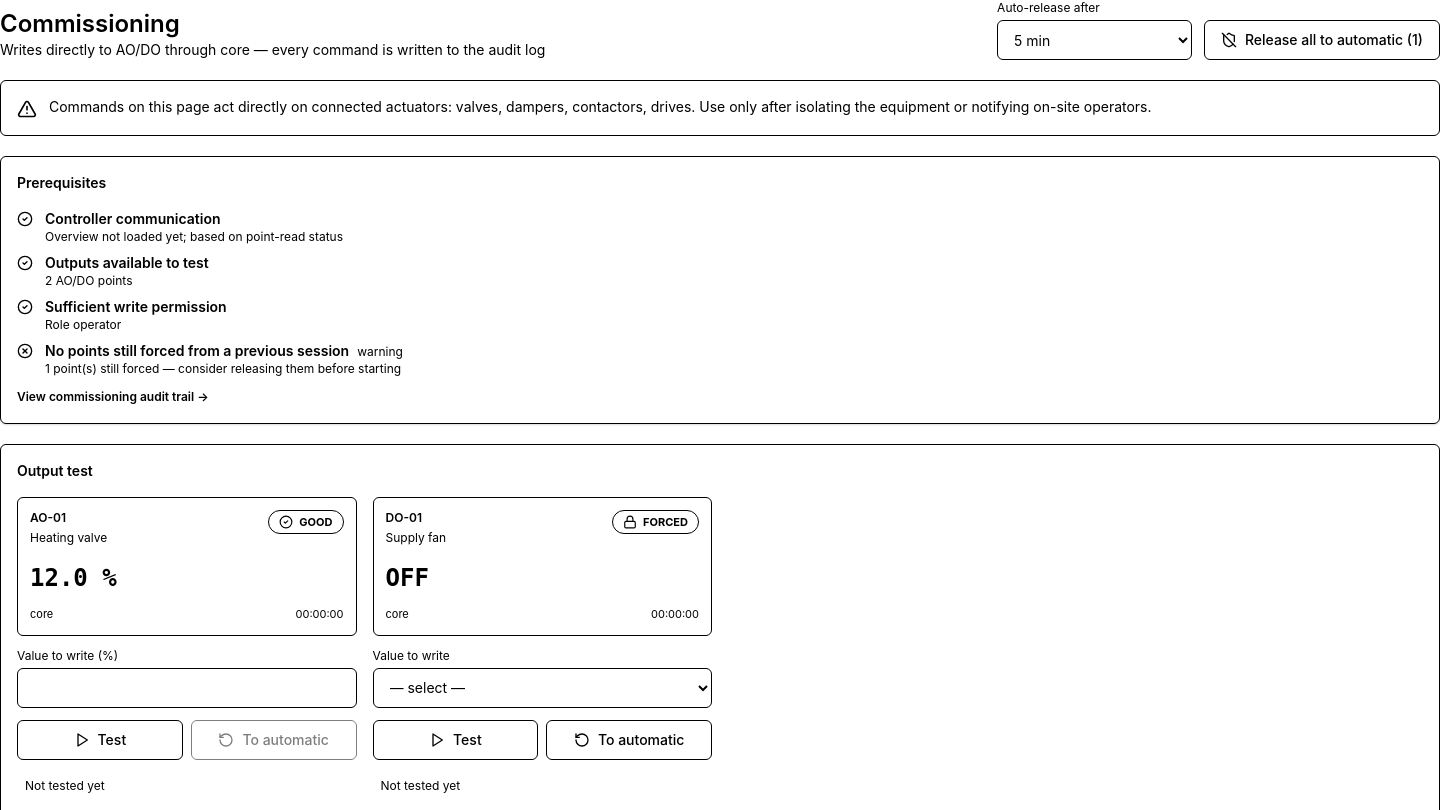
Test case: CommissioningPage auto-release timeout › says the controller reported no remaining time instead of showing a fake countdown
Step 1. Type "35" into the number field named "Value to write for AO-01" → (187, 688), box [17,668,356,708]
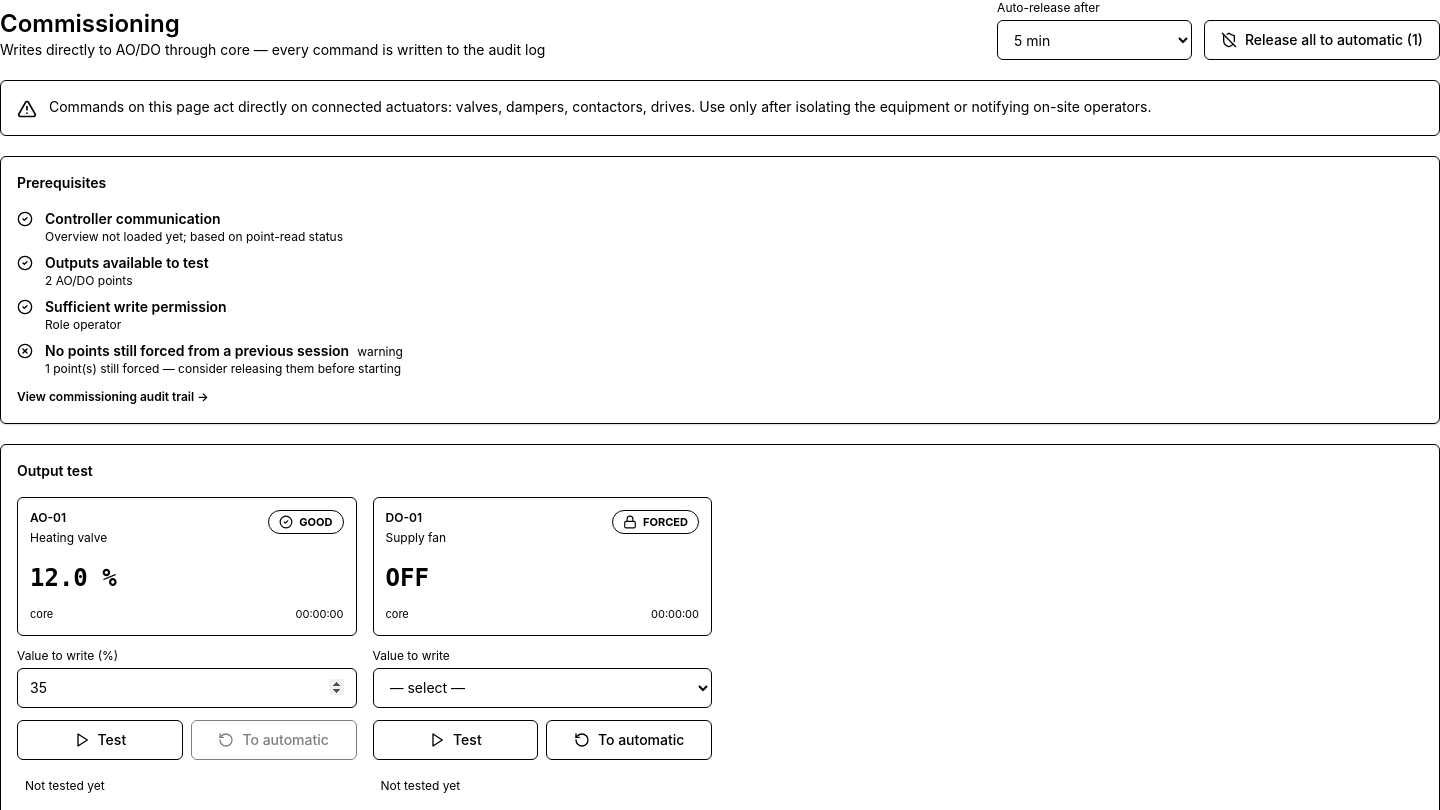
Step 2. Click the button with aria-label "Test AO-01" → (100, 740), box [17,720,183,760]
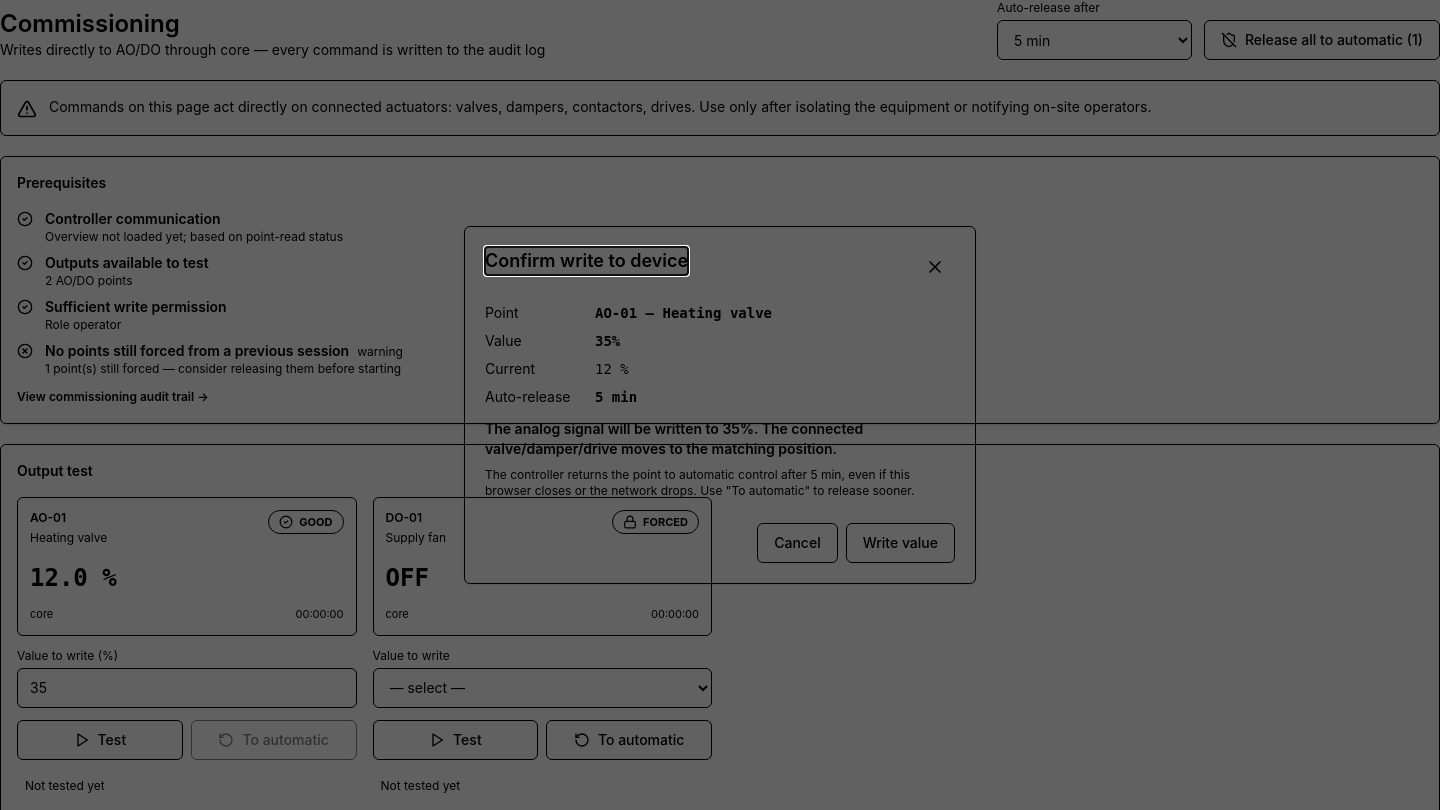
Step 3. Click the button "Write value" → (900, 543), box [846,523,955,563]
(page scrolled)
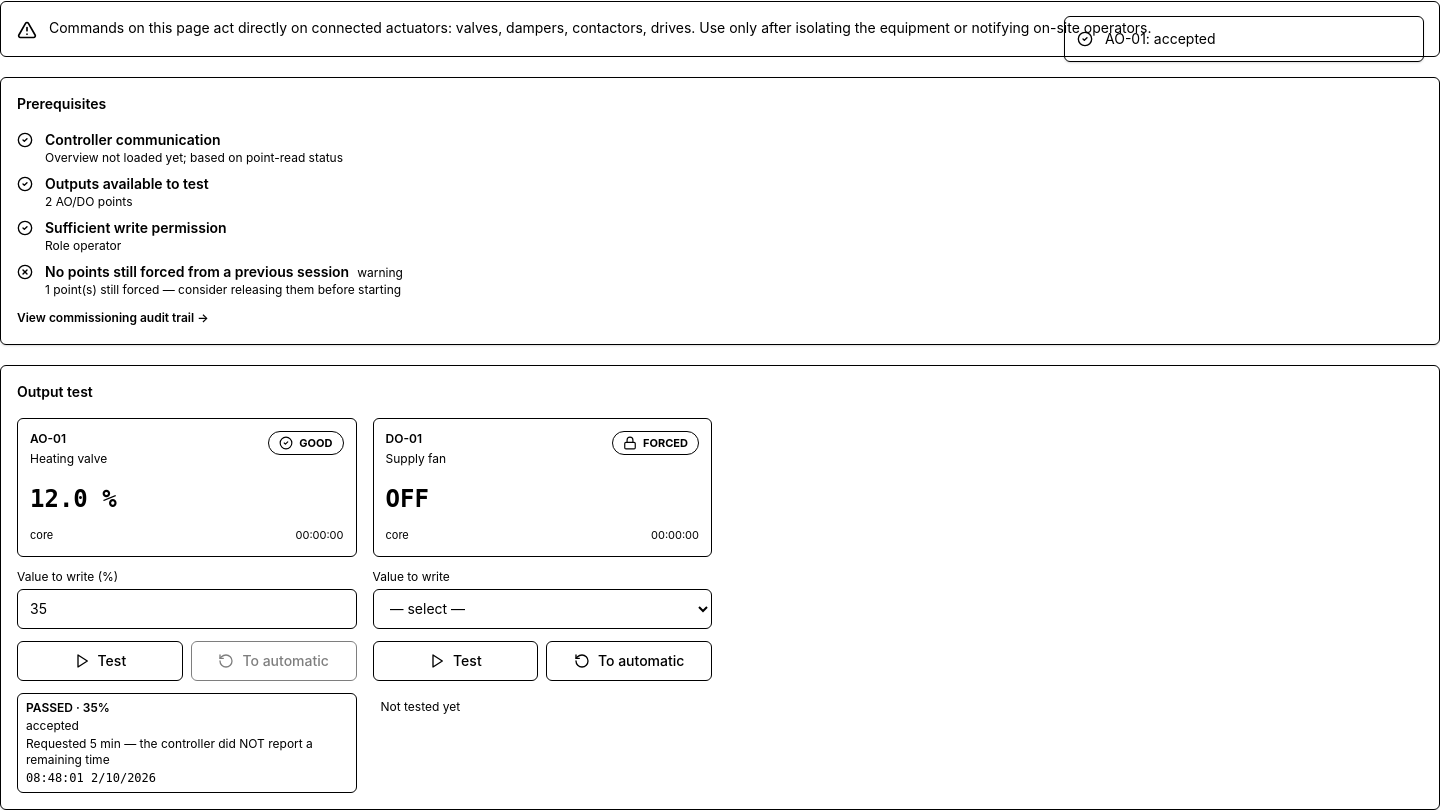
Expected: the text "did NOT report a remaining time" is shown, [26,736,313,766]
